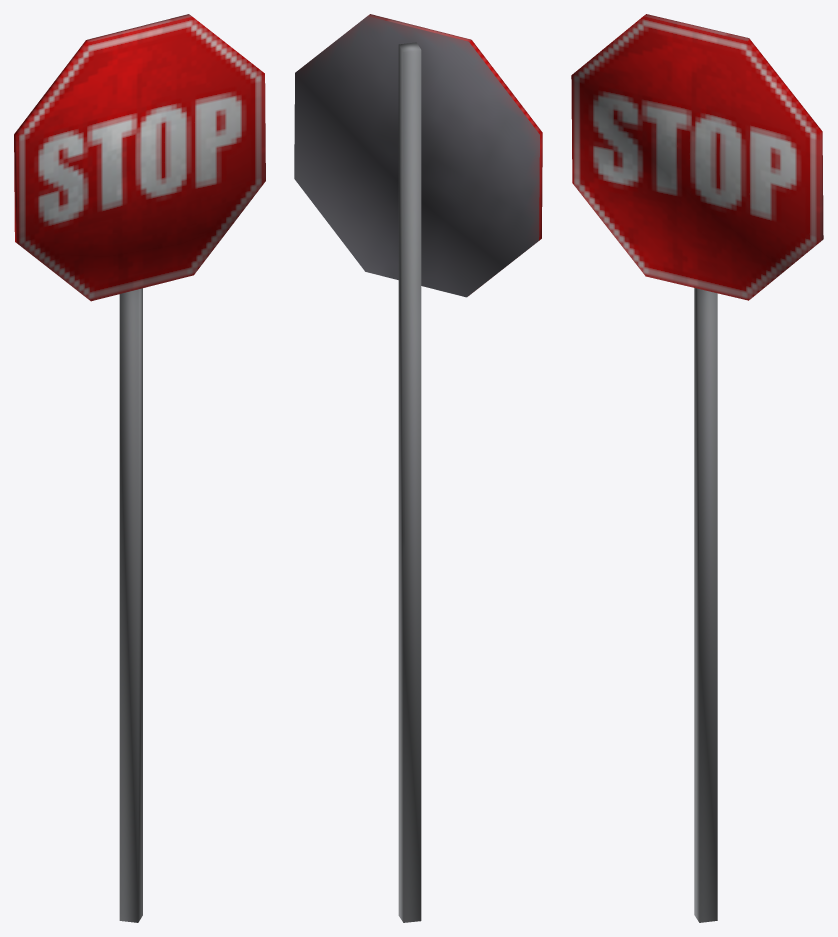
File: sb_obj_ModernCity103_sign_stop.fbx
3 renders of one model, left to right at view 1: azimuth 30°, elevation 25°; view 2: azimuth 150°, elevation 25°; view 3: azimuth 330°, elevation 25°, orthographic.
Visible parts, largest first — view 1: sb_obj_ModernCity103_sign_stop; view 2: sb_obj_ModernCity103_sign_stop; view 3: sb_obj_ModernCity103_sign_stop.
Boxes of the visible parts, x1=… form: sb_obj_ModernCity103_sign_stop: x1=14, y1=14, x2=265, y2=922; sb_obj_ModernCity103_sign_stop: x1=294, y1=14, x2=542, y2=922; sb_obj_ModernCity103_sign_stop: x1=571, y1=14, x2=823, y2=922.
Size of the model in its own units: 0.6872 by 2.36 by 0.0789.
